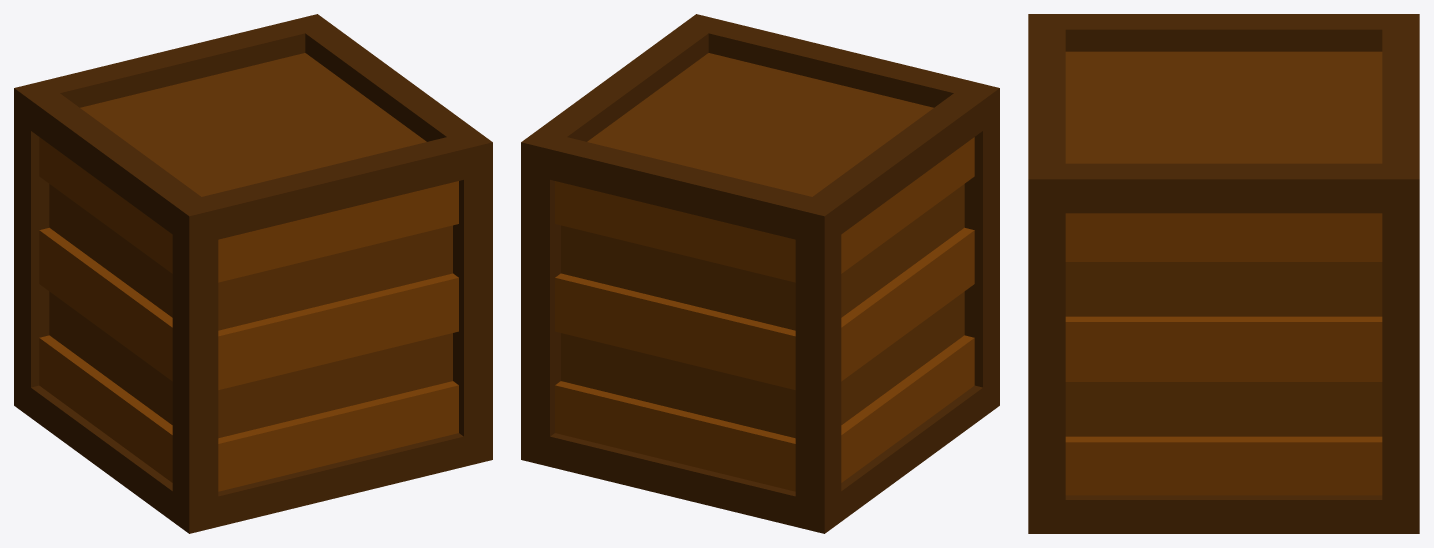
Rendered from WoodenCrate.fbx.
3 views of the same model, side by side, from view 1: azimuth 30°, elevation 25°; view 2: azimuth 150°, elevation 25°; view 3: azimuth 270°, elevation 25° (orthographic). The views are drawn at different scales.
Parts seen in each view (by area): view 1: WoodenCrate; view 2: WoodenCrate; view 3: WoodenCrate.
Part boxes in pixels (x1,y1,x2,y2): WoodenCrate: [14, 14, 492, 533]; WoodenCrate: [521, 14, 999, 533]; WoodenCrate: [1028, 14, 1419, 533].
Size of the model in its own units: 92.7 by 92.7 by 92.7.
